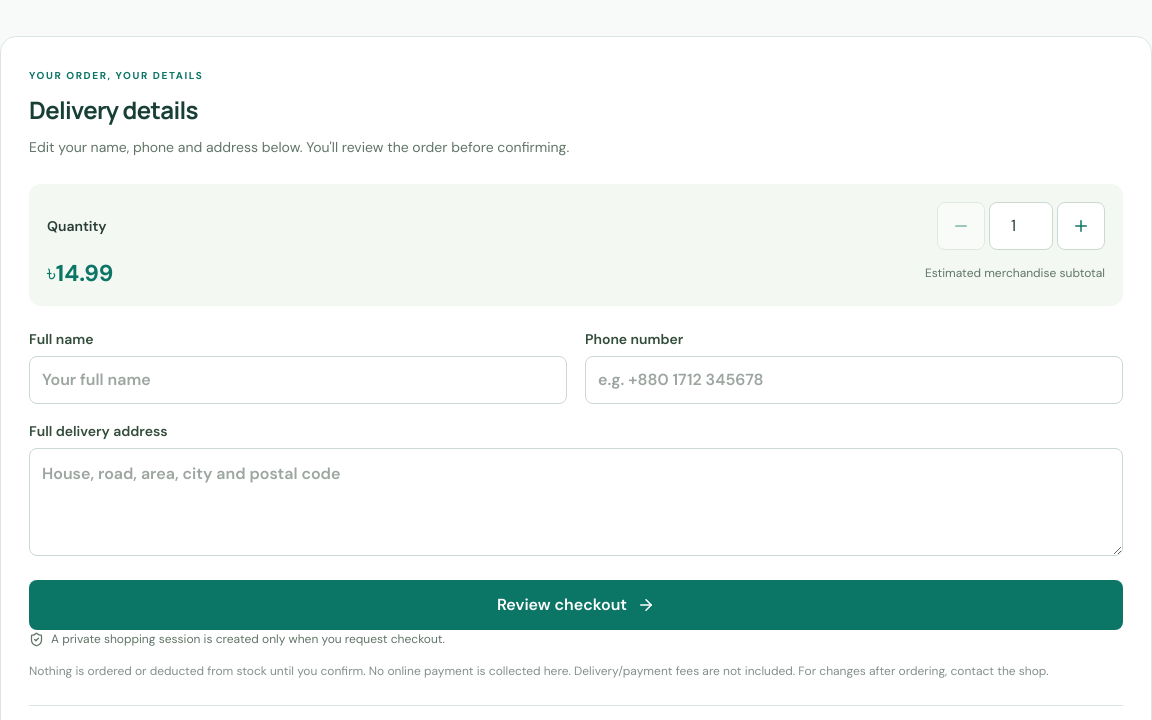
Test case: mobile product order form › shows server failures without clearing the edited delivery form
This screenshot has width=1152, height=720.
In the field labelled "Full name": (298, 380) [29,356,567,404], type "Mobile Shopper"
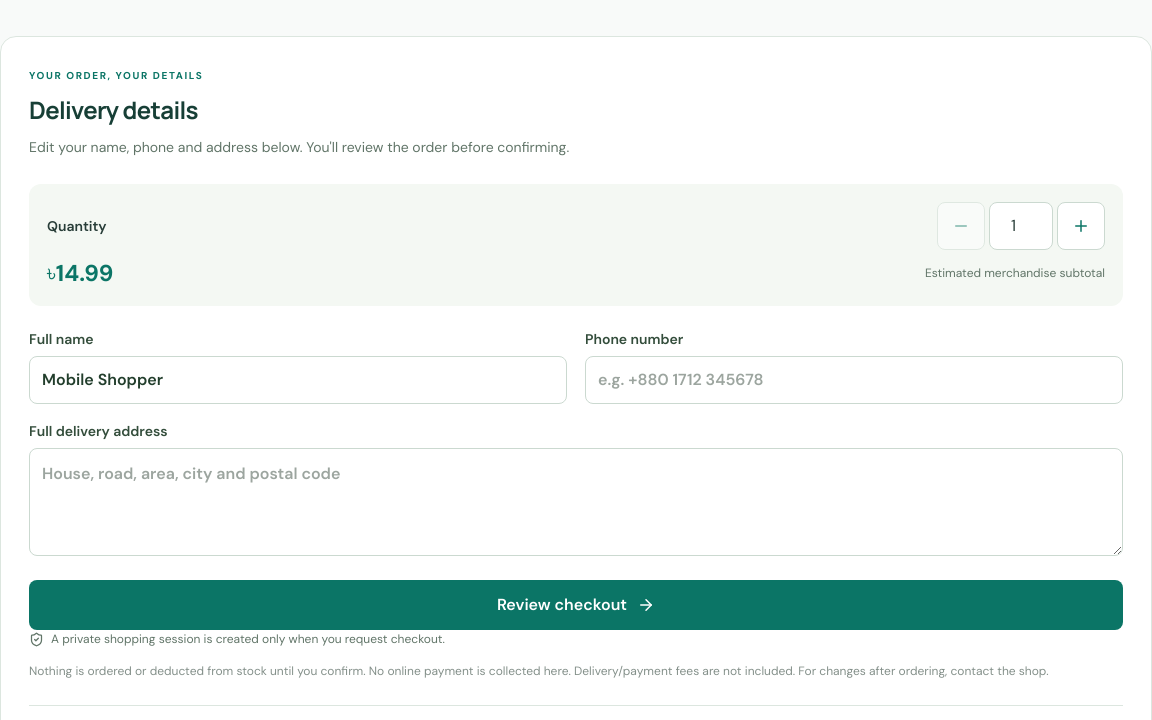
In the field labelled "Phone number": (854, 380) [585,356,1123,404], type "01712345678"
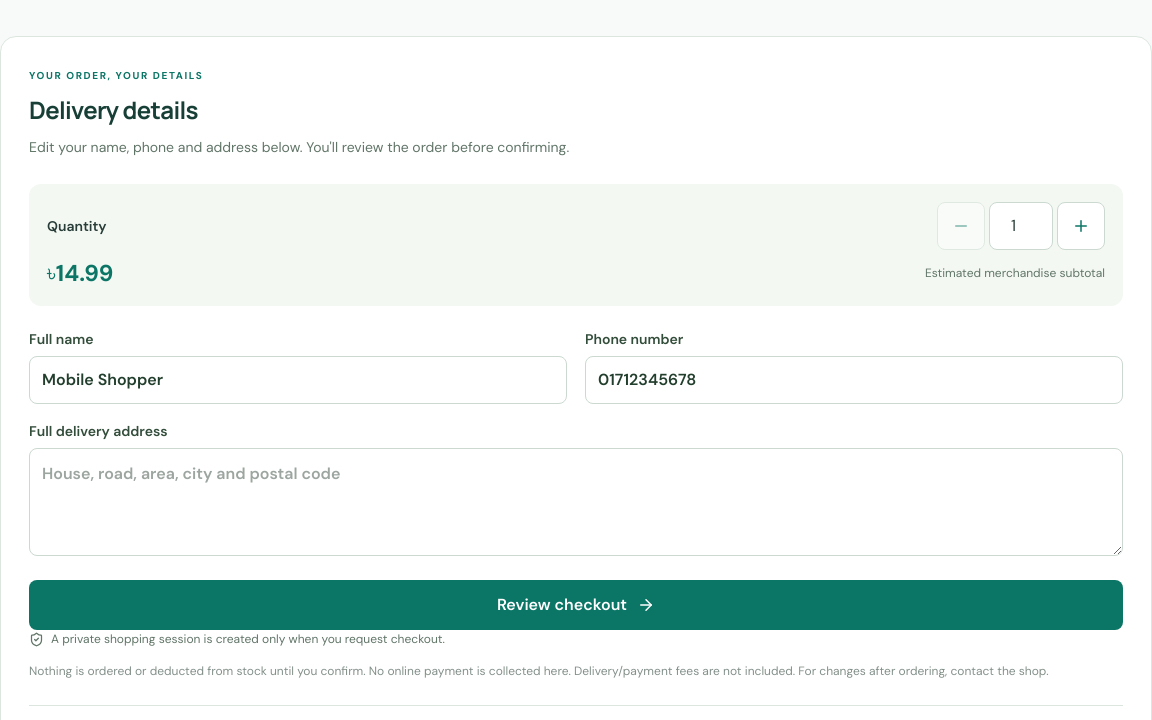
In the text box labelled "Full delivery address": (576, 502) [29,448,1123,556], type "House 12, Road 4, Dhaka 1205"
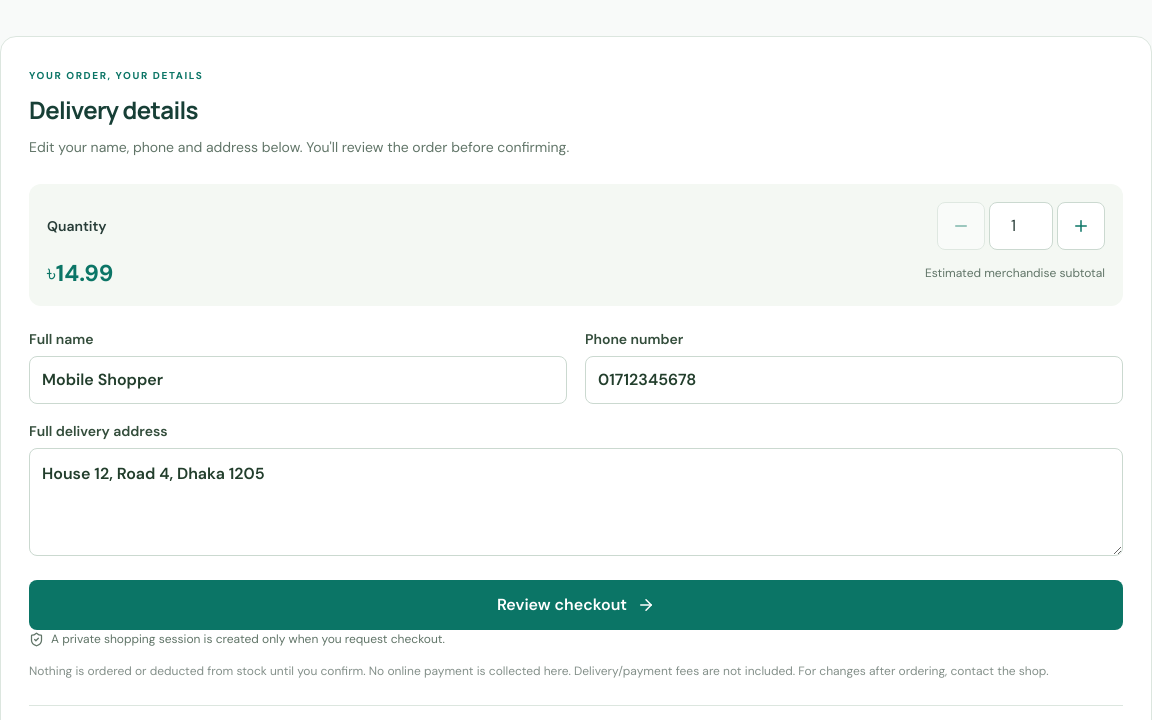
Submit the form named "Review checkout"
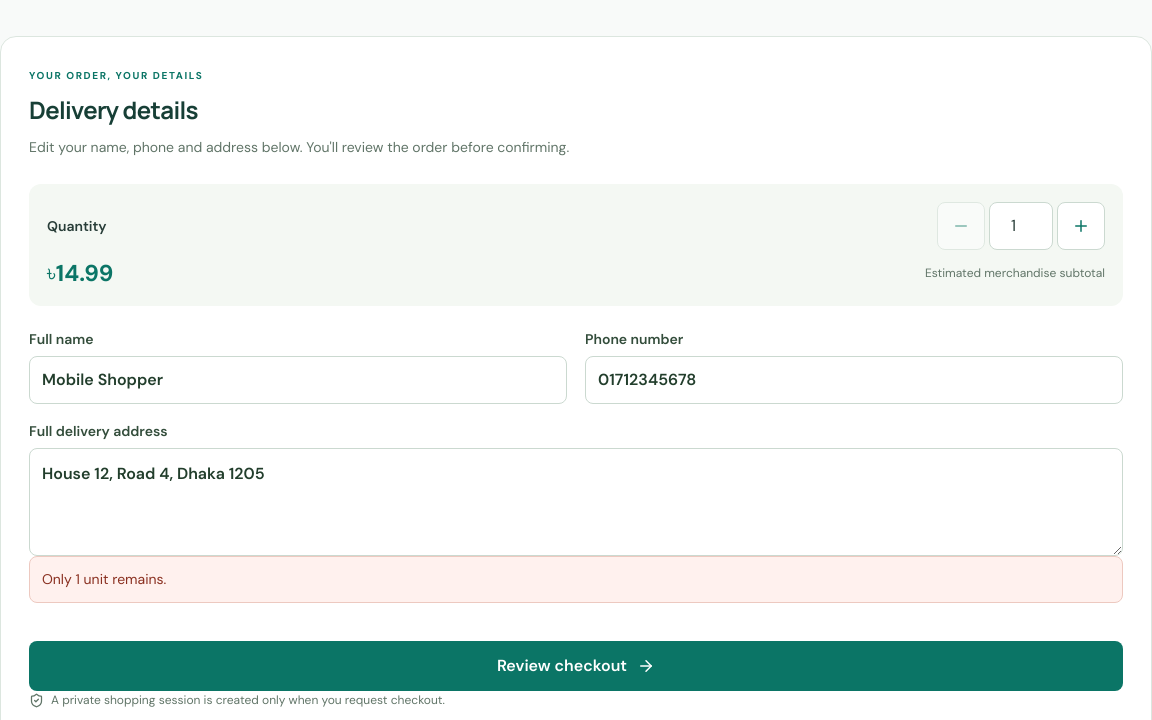
expect the message reads "Only 1 unit remains.": met, box [42,570,166,588]
